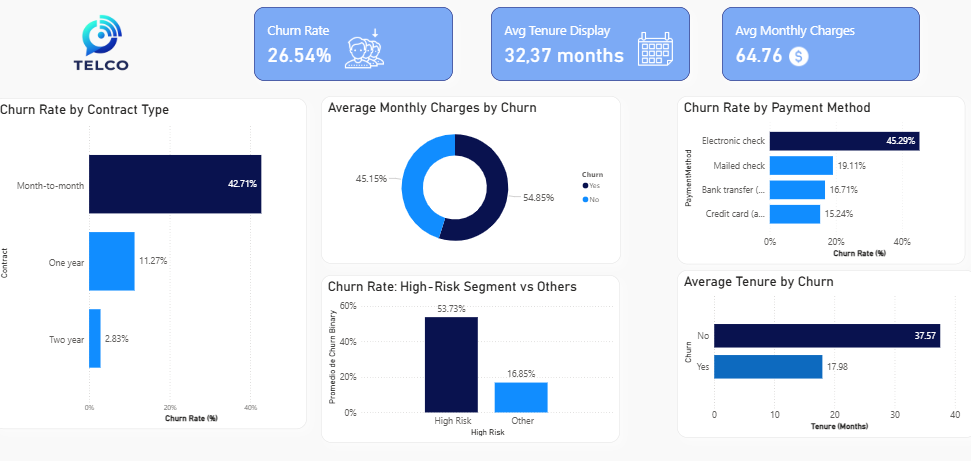

This screenshot's page, from the dashboard's own definition file:
{"tool":"powerbi","page":{"name":"Página 1","canvas":[1800,900],"ordinal":0},"visuals":[{"type":"barChart","title":"Churn Rate by Contract Type","fields":{"Category":["Telco.Contract"],"Y":["Telco.Churn por Contrato"]},"box":[23.4,190.8,565.2,595.8],"z":0},{"type":"barChart","title":"Churn Rate by Payment Method","fields":{"Y":["Avg(Telco.Churn Binary)"],"Category":["Telco.PaymentMethod"]},"box":[1255.3,186.7,518.7,302.6],"z":1000},{"type":"barChart","title":"Average Tenure by Churn","fields":{"Y":["Avg(Telco.tenure)"],"Category":["Telco.Churn"]},"box":[1254.6,500.4,539,302],"z":2000},{"type":"donutChart","title":"Average Monthly Charges by Churn","fields":{"Category":["Telco.Churn"],"Y":["Avg(Telco.MonthlyCharges)"]},"box":[613.8,187.2,540,302.4],"z":3000},{"type":"columnChart","title":"Churn Rate: High-Risk Segment vs Others","fields":{"Category":["Telco.High Risk"],"Y":["Avg(Telco.Churn Binary)"]},"box":[613.8,509.4,538.2,302.4],"z":4000},{"type":"cardVisual","title":"Months","fields":{"Data":["Telco.Avg Tenure"]},"box":[919.8,27,358.2,133.2],"z":5000},{"type":"image","box":[0,0,435.9,187.5],"z":6000},{"type":"cardVisual","title":"Months","fields":{"Data":["Telco.Churn Rate"]},"box":[493.2,27,358.2,133.2],"z":7000},{"type":"cardVisual","title":"Months","fields":{"Data":["Telco.Avg Monthly Charges"]},"box":[1335.6,27,356.4,133.2],"z":8000},{"type":"image","box":[1432.8,90,81,52.2],"z":9000},{"type":"image","box":[1177.2,64.8,77.4,77.4],"z":10000},{"type":"image","box":[637.2,54,106.2,100.8],"z":11000}]}

Visuals, with their boxes on the page's 1800x900 design canvas (x1, y1, x2, y2). These are canvas units, not pixel positions in the 971x461 screenshot, which may show the page scaled, cropped or inside an application window:
"Churn Rate by Contract Type" barChart: [23, 191, 589, 787]
"Churn Rate by Payment Method" barChart: [1255, 187, 1774, 489]
"Average Tenure by Churn" barChart: [1255, 500, 1794, 802]
"Average Monthly Charges by Churn" donutChart: [614, 187, 1154, 490]
"Churn Rate: High-Risk Segment vs Others" columnChart: [614, 509, 1152, 812]
"Months" cardVisual: [920, 27, 1278, 160]
image: [0, 0, 436, 188]
"Months" cardVisual: [493, 27, 851, 160]
"Months" cardVisual: [1336, 27, 1692, 160]
image: [1433, 90, 1514, 142]
image: [1177, 65, 1255, 142]
image: [637, 54, 743, 155]
